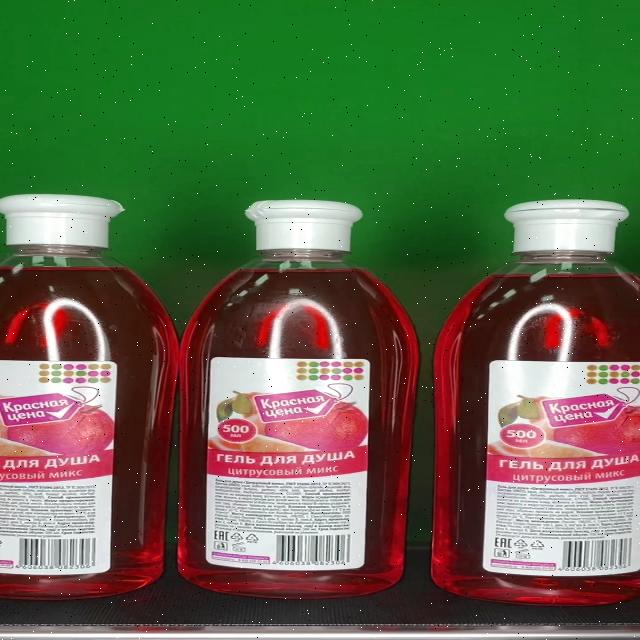Bottle: (180, 200, 420, 598), (432, 200, 640, 606), (0, 194, 181, 600)
Cap: (504, 200, 630, 254), (0, 195, 125, 248), (245, 200, 363, 250)
